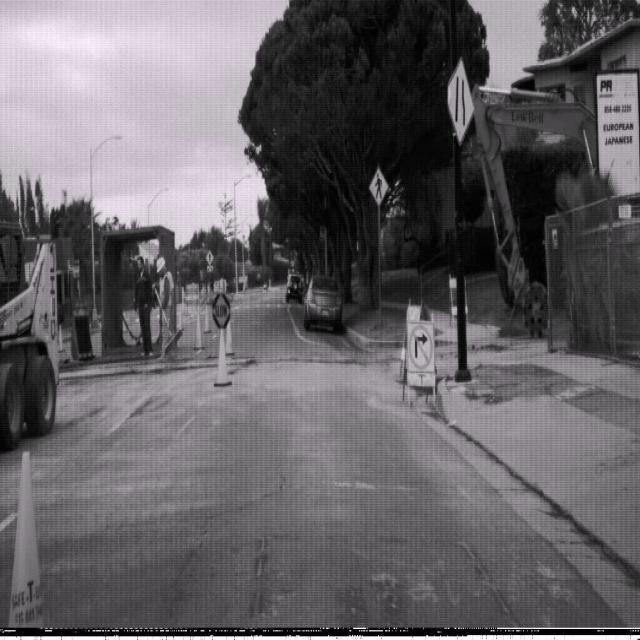noRightTurn: (407, 321, 434, 372)
pedestrianCrossing: (368, 164, 389, 207)
